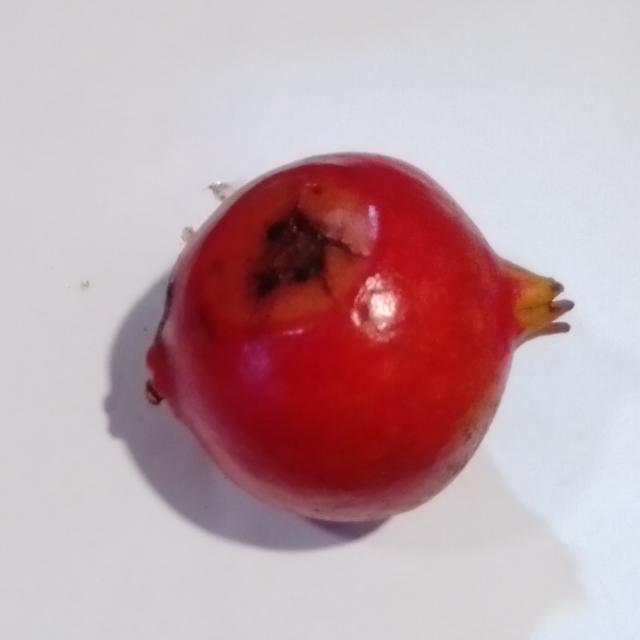Rotten: (134, 147, 579, 529)
